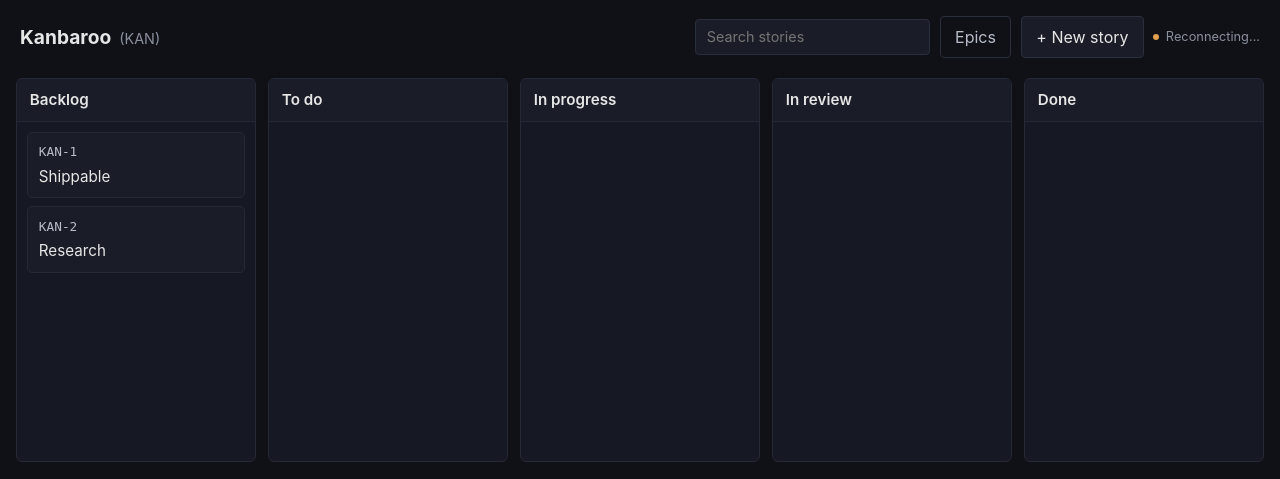
Test: Board › pressing "/" focuses the search input; typing filters visible cards
Expected: the text "KAN-1" is shown, [39,142,77,161]
Expected: the text "Shippable" is shown, [39,167,110,186]
Type "ship" into the search field labelled "Search stories". click: coordinates (812, 37)
box: [700,21,924,53]
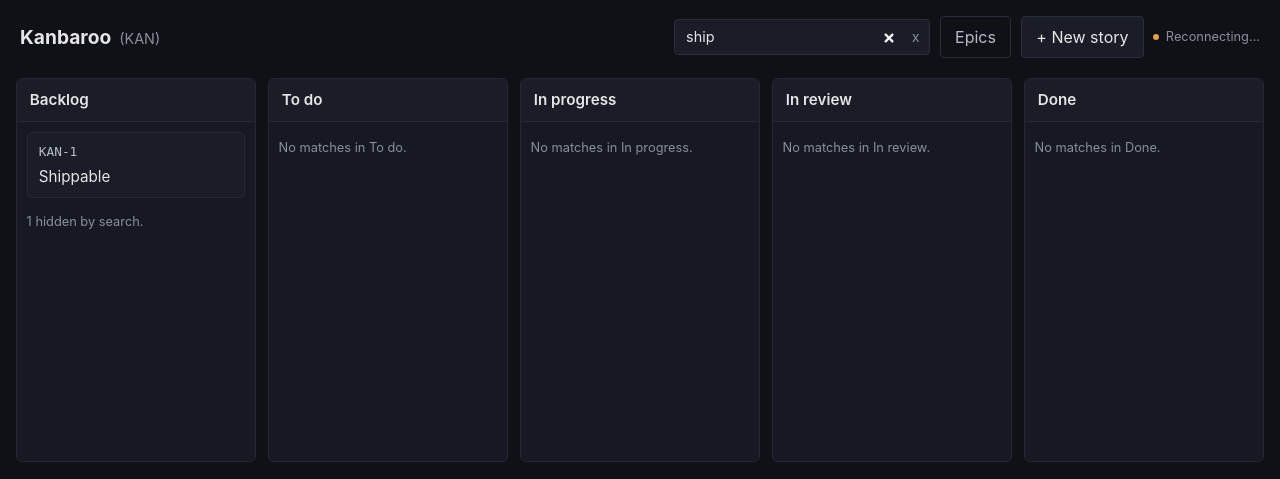
Expected: the text "Shippable" is shown, [39,167,110,186]
Expected: the button "Research" is gone
